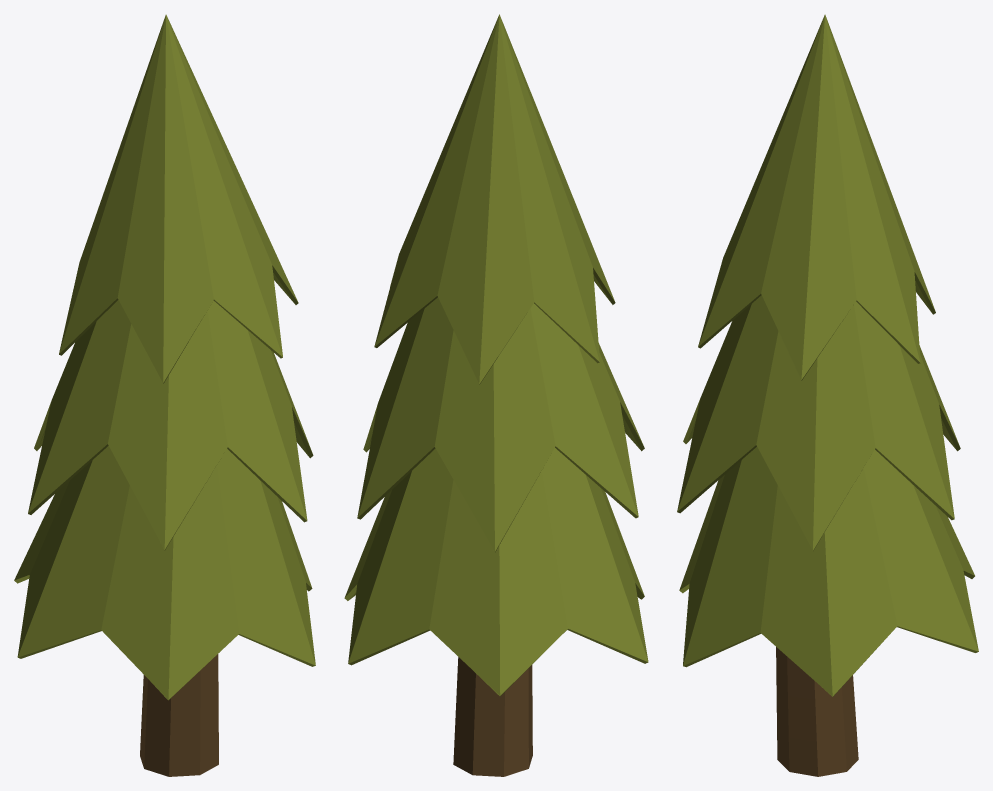
The model's file is Tree_24.fbx.
The picture shows the model from 3 angles, left to right: view 1: azimuth 30°, elevation 25°; view 2: azimuth 150°, elevation 25°; view 3: azimuth 270°, elevation 25°; orthographic projection.
Parts seen in each view (by area): view 1: Tree_24; view 2: Tree_24; view 3: Tree_24.
Part boxes in pixels (left/top/right/bottom): Tree_24: left=14, top=14, right=315, bottom=776; Tree_24: left=344, top=14, right=648, bottom=776; Tree_24: left=677, top=14, right=978, bottom=776.
Bounding box in the file's own units: 107 × 255 × 94.27.
